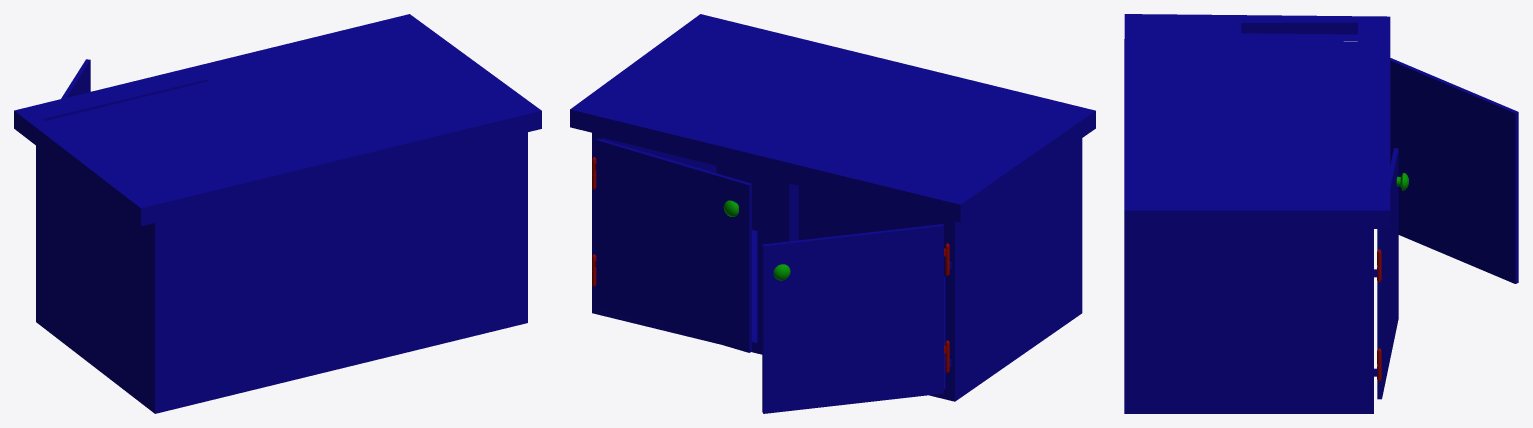
File: Kitchen.FBX
The picture shows the model from 3 angles, left to right: view 1: azimuth 30°, elevation 25°; view 2: azimuth 150°, elevation 25°; view 3: azimuth 270°, elevation 25°; orthographic projection.
Visible parts, largest first — view 1: Kitchen; view 2: Kitchen; view 3: Kitchen.
Part boxes in pixels (box(x1,y1,x2,y2)): Kitchen: box(14, 14, 541, 413); Kitchen: box(570, 14, 1095, 413); Kitchen: box(1124, 14, 1518, 413).
Bounding box in the file's own units: 201 × 170 × 100.
